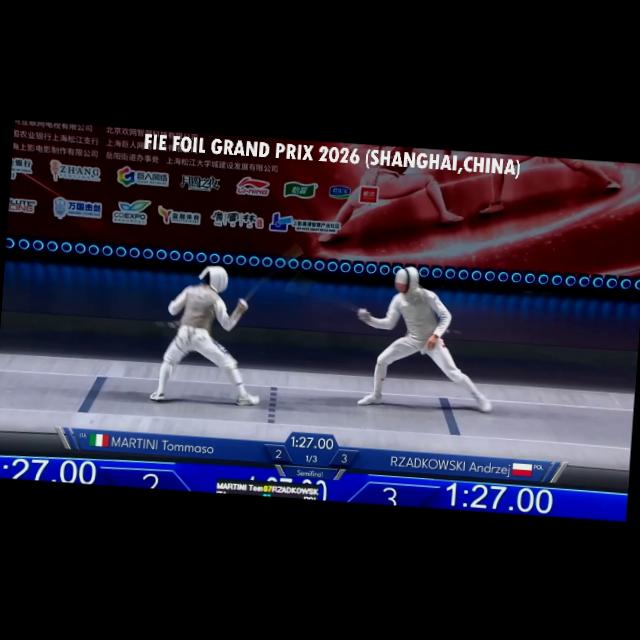blade: (237, 241, 310, 318), (282, 282, 375, 322)
